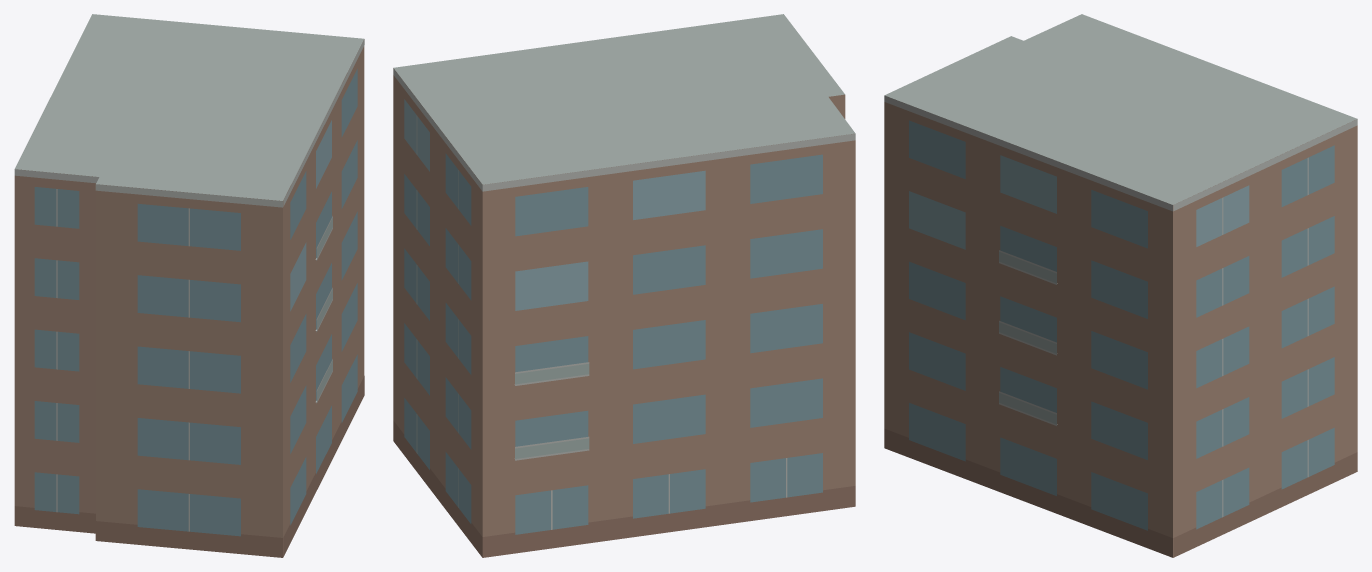
Rendered from survey-upis-33043409.glb.
3 views of the same model, side by side, from view 1: azimuth 30°, elevation 25°; view 2: azimuth 150°, elevation 25°; view 3: azimuth 270°, elevation 25° (orthographic). The views are drawn at different scales.
Parts seen in each view (by area): view 1: survey-upis-33043409.tmp; view 2: survey-upis-33043409.tmp; view 3: survey-upis-33043409.tmp.
Part boxes in pixels (left/top/right/bottom): survey-upis-33043409.tmp: left=14, top=14, right=364, bottom=557; survey-upis-33043409.tmp: left=393, top=14, right=855, bottom=557; survey-upis-33043409.tmp: left=884, top=14, right=1357, bottom=557.
Size of the model in its own units: 15.46 by 13.3 by 16.18.
